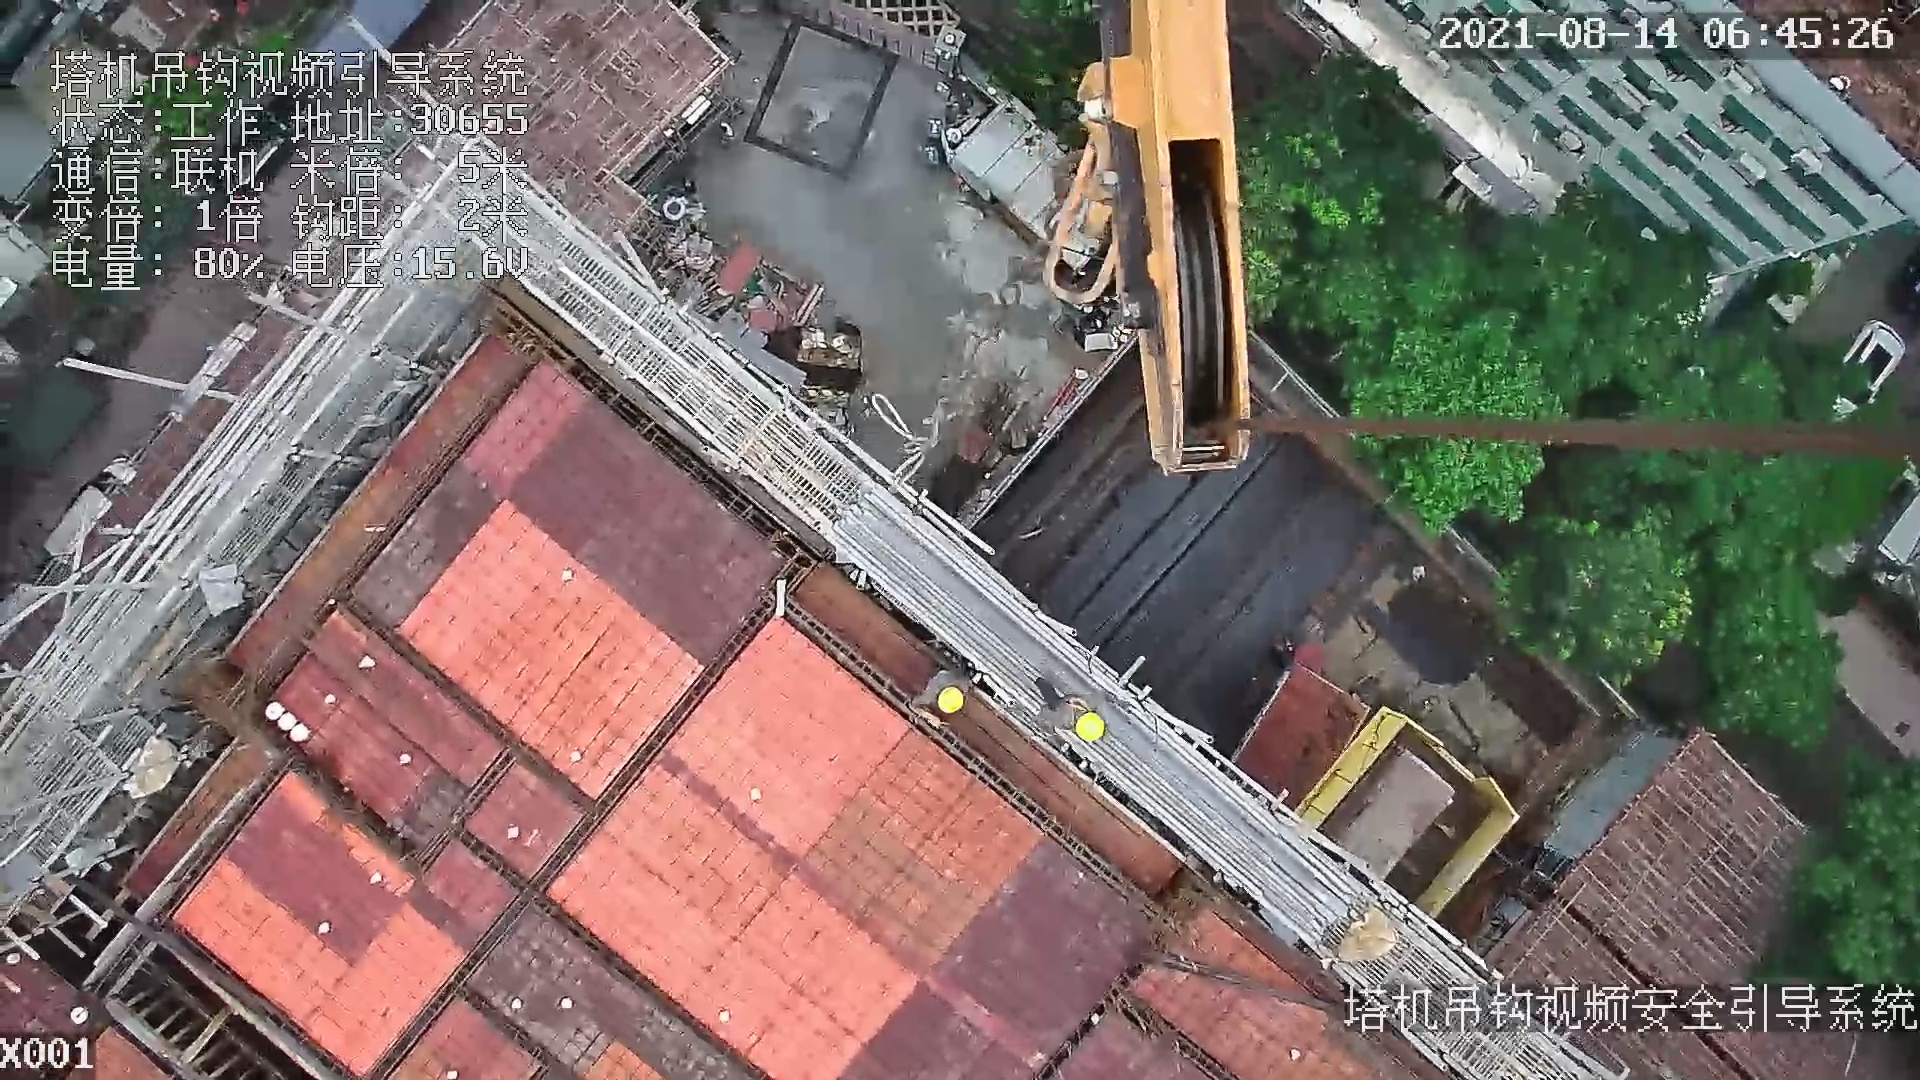board: (1329, 735, 1456, 894)
helmet: (937, 685, 967, 715), (1078, 712, 1104, 739)
hook: (1033, 1, 1253, 477)
person: (910, 651, 982, 726), (1031, 678, 1109, 745)
